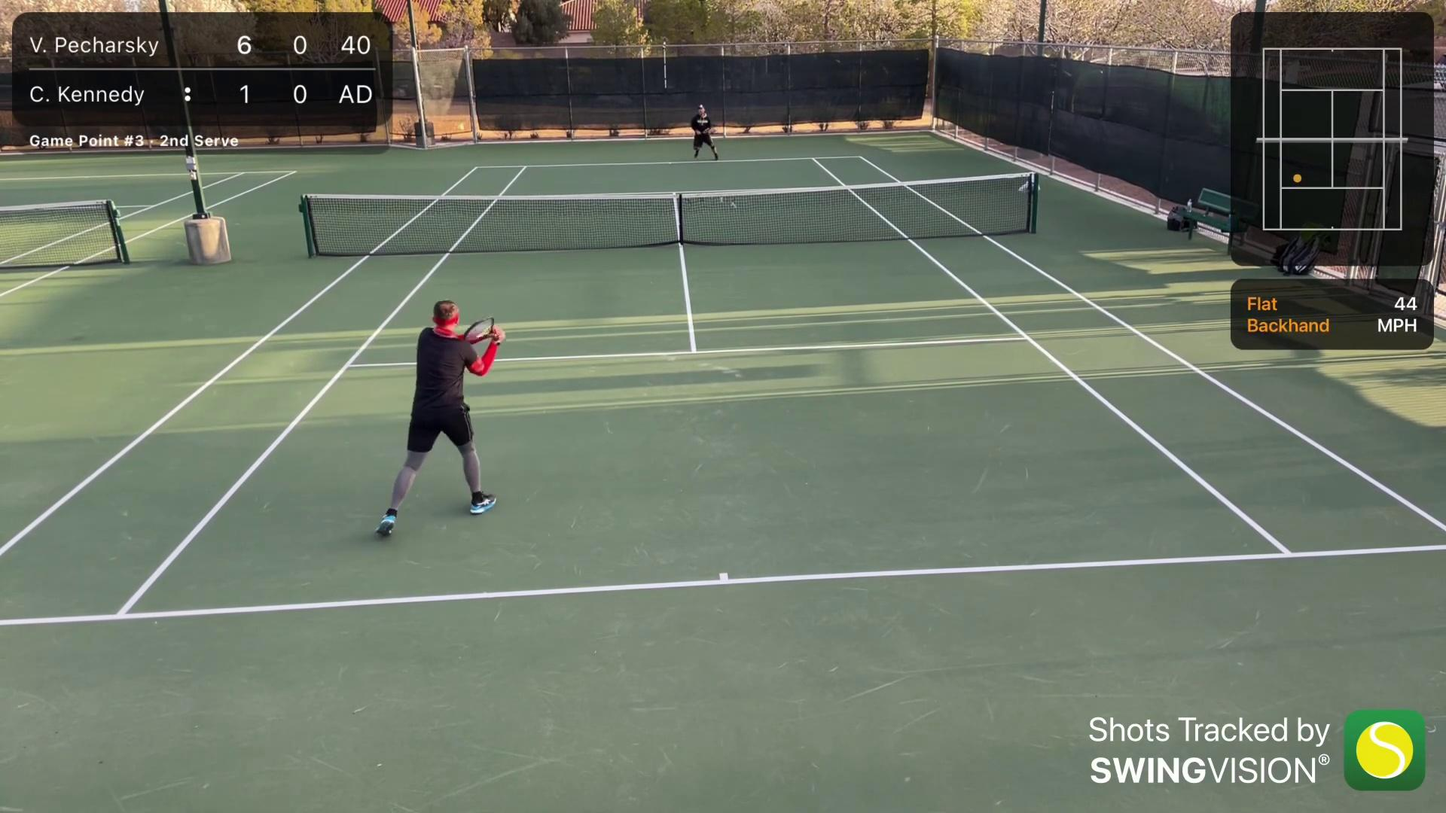ball: (457, 120, 465, 130)
